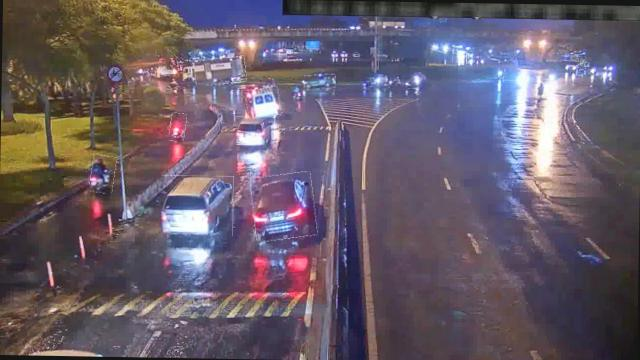Bike: (89, 155, 115, 193), (168, 113, 186, 142)
Bus: (246, 86, 281, 118)
Car: (250, 172, 316, 241), (161, 174, 234, 236), (236, 116, 274, 148), (304, 74, 335, 88)
Truck: (194, 56, 246, 84)
